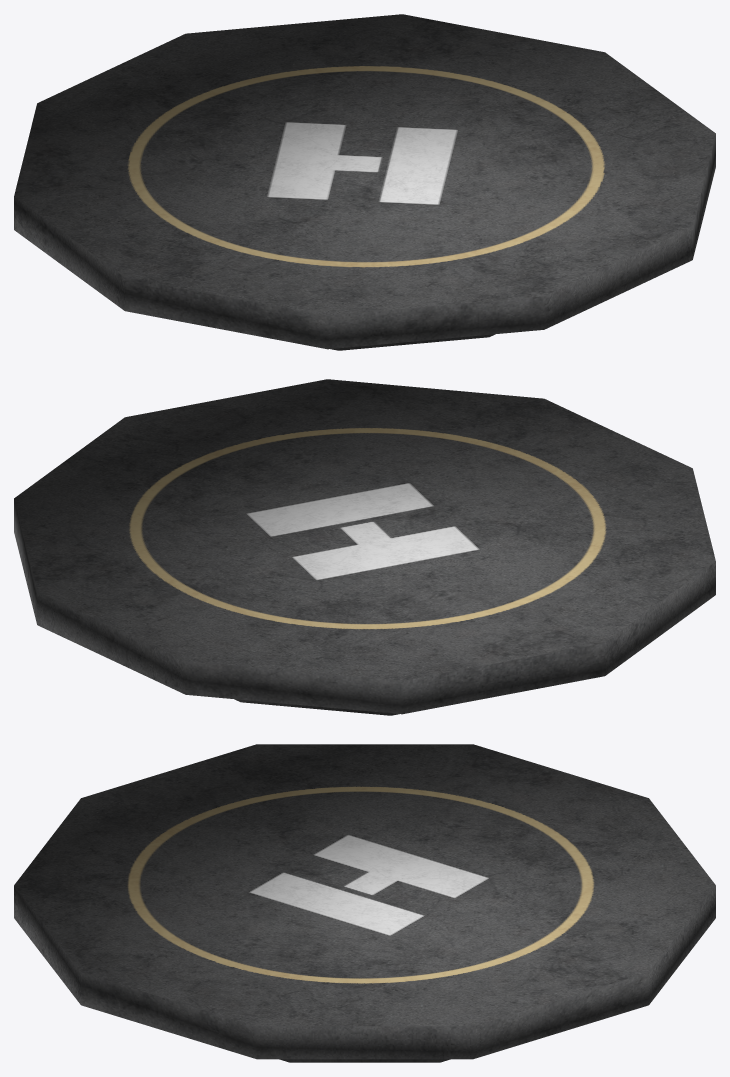
File: Landing.obj
The picture shows the model from 3 angles, top to bottom: view 1: azimuth 30°, elevation 25°; view 2: azimuth 150°, elevation 25°; view 3: azimuth 270°, elevation 25°; orthographic projection. The views are drawn at different scales.
Visible parts, largest first — view 1: Cylinder; view 2: Cylinder; view 3: Cylinder.
Boxes of the visible parts, x1,y1,x2,y2 form: Cylinder: [14, 14, 715, 350]; Cylinder: [14, 379, 715, 715]; Cylinder: [14, 744, 715, 1062].
Bounding box in the file's own units: 13.72 × 1.8 × 14.42.
